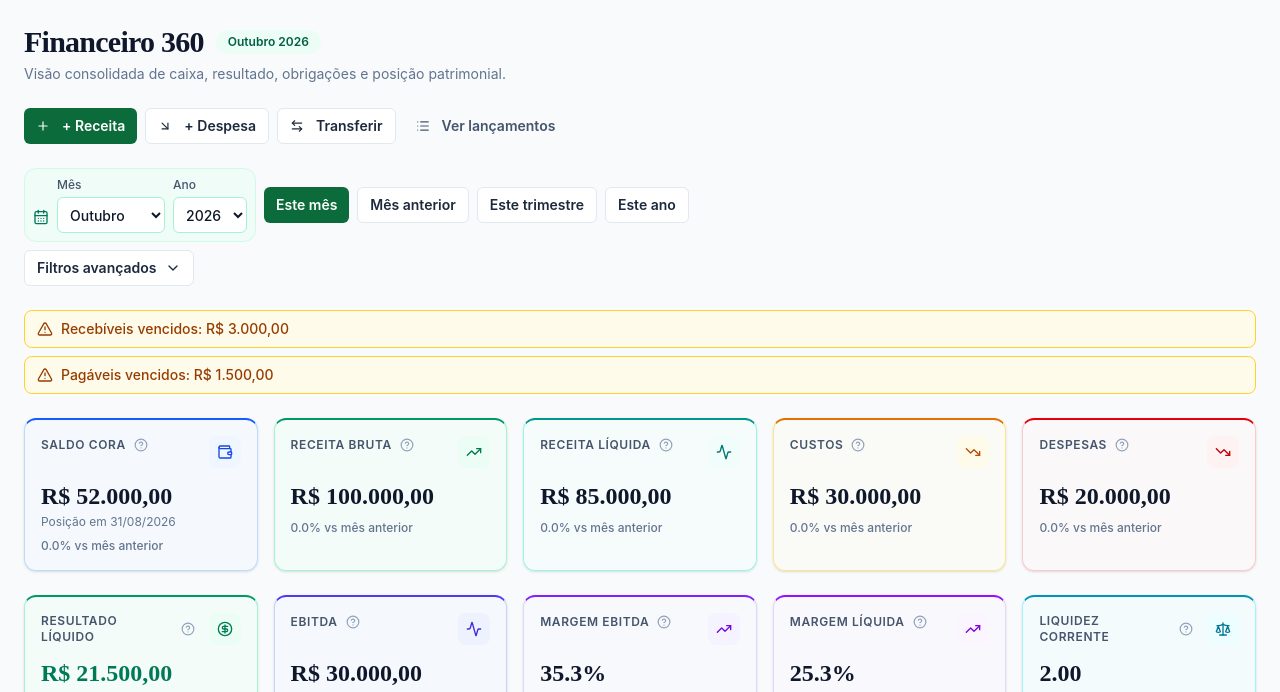
Test: FinanceDashboardPage › keeps advanced date filters collapsed behind the mobile-friendly control
Click the button "Filtros avançados" at x=109, y=268, box [24,250,194,286]
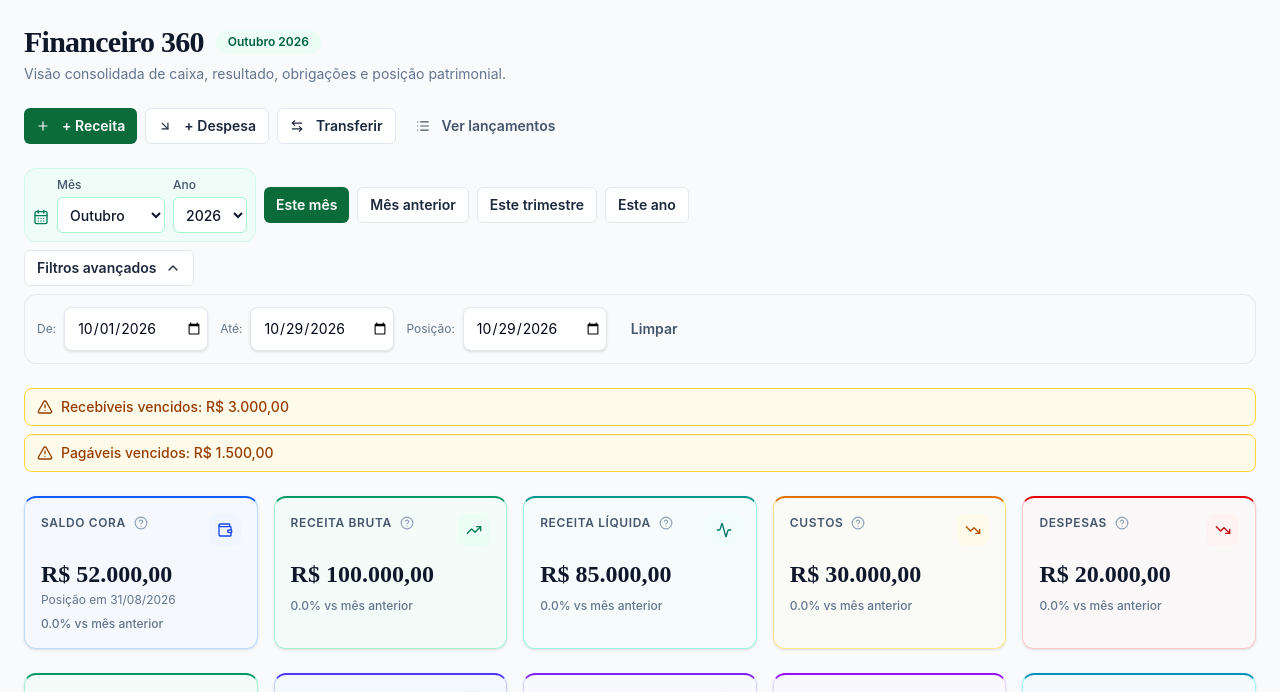
Result: the button "Filtros avançados" is expanded at [24,250,194,286]
Result: the date field named "Data inicial" is shown at [64,307,208,351]
Result: the date field named "Data final" is shown at [250,307,394,351]
